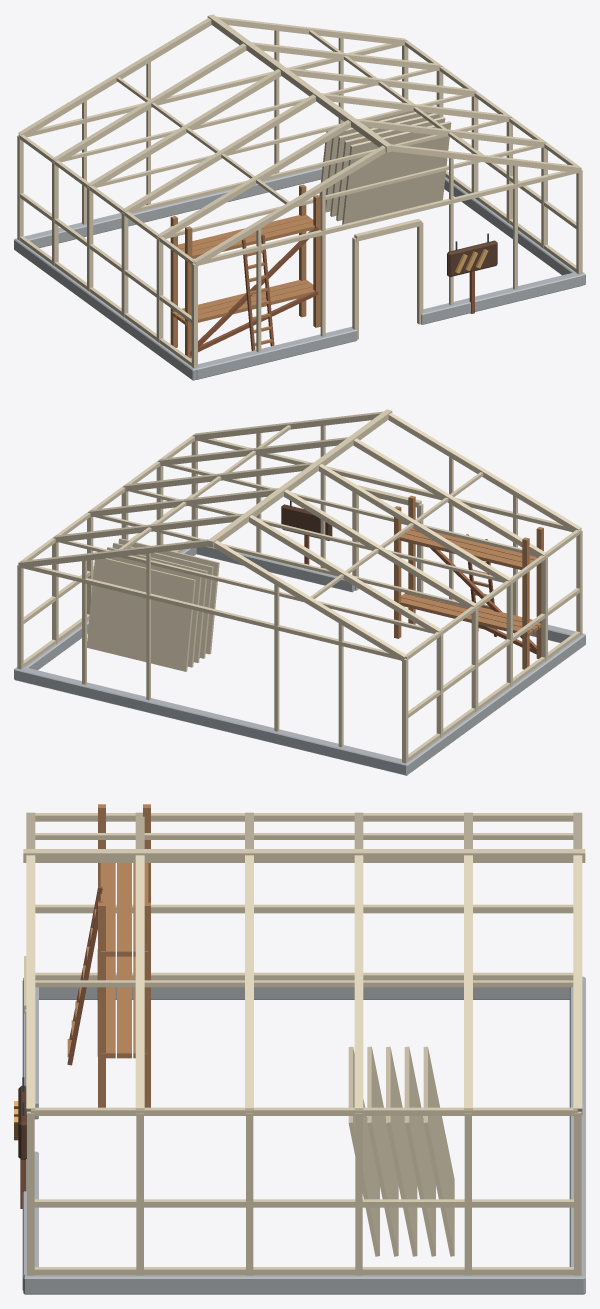
The model's file is greenhouse_scaffold.glb.
The picture shows the model from 3 angles, top to bottom: view 1: azimuth 30°, elevation 25°; view 2: azimuth 150°, elevation 25°; view 3: azimuth 270°, elevation 25°; orthographic projection. The views are drawn at different scales.
Visible parts, largest first — view 1: greenhouse_scaffold_建筑共用调色板.030; view 2: greenhouse_scaffold_建筑共用调色板.030; view 3: greenhouse_scaffold_建筑共用调色板.030.
Part boxes in pixels (x1,y1,x2,y2): greenhouse_scaffold_建筑共用调色板.030: (14,14,585,380); greenhouse_scaffold_建筑共用调色板.030: (14,409,585,775); greenhouse_scaffold_建筑共用调色板.030: (14,804,585,1294).
Bounding box in the file's own units: 9.52 × 4.32 × 7.63.
1 material, 1 textured.
